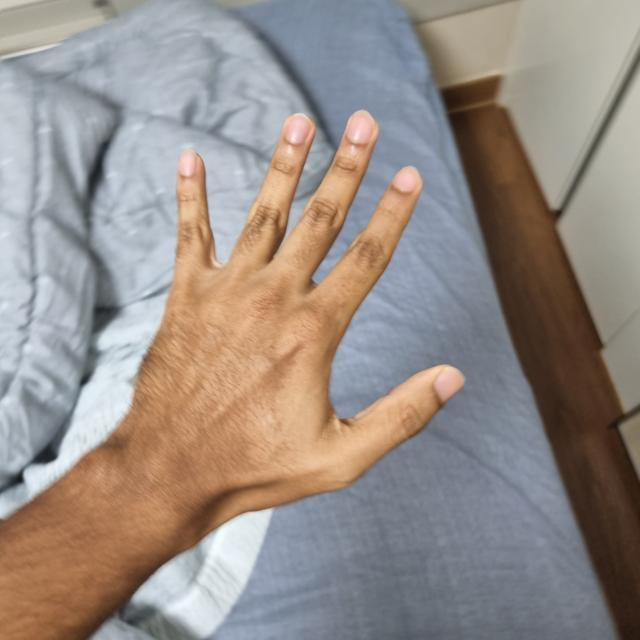Paper: (118, 116, 460, 520)
